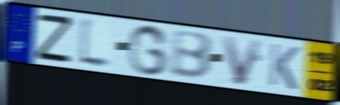B: (170, 30, 215, 81)
G: (126, 24, 170, 77)
K: (267, 41, 302, 92)
L: (76, 15, 115, 73)
V: (220, 34, 266, 87)
Z: (35, 12, 74, 64)
